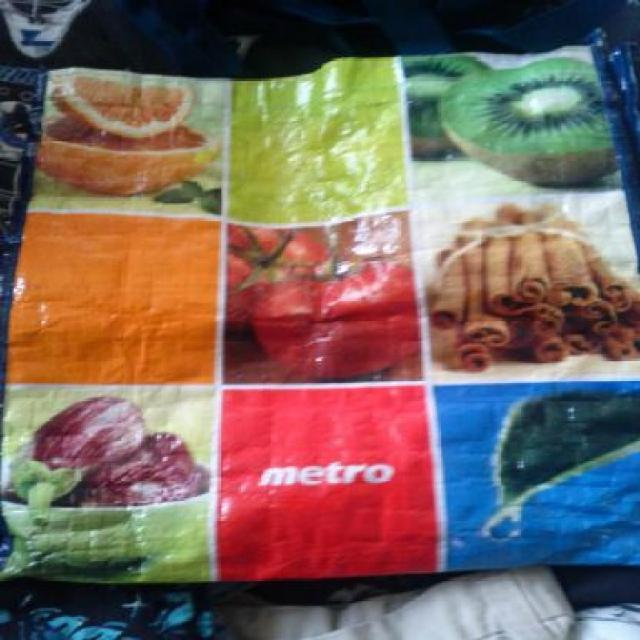Orange: (30, 115, 204, 197)
